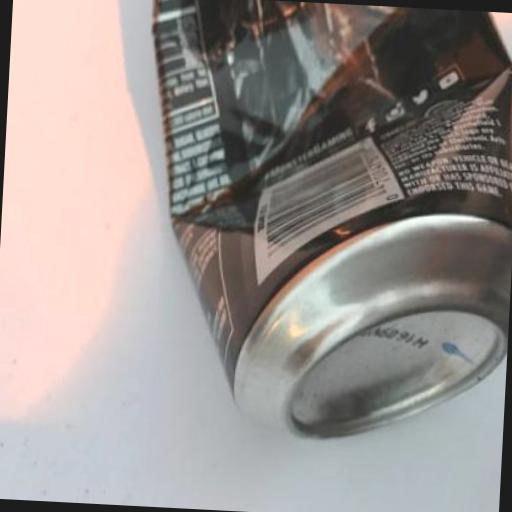metal: (129, 0, 512, 451)
